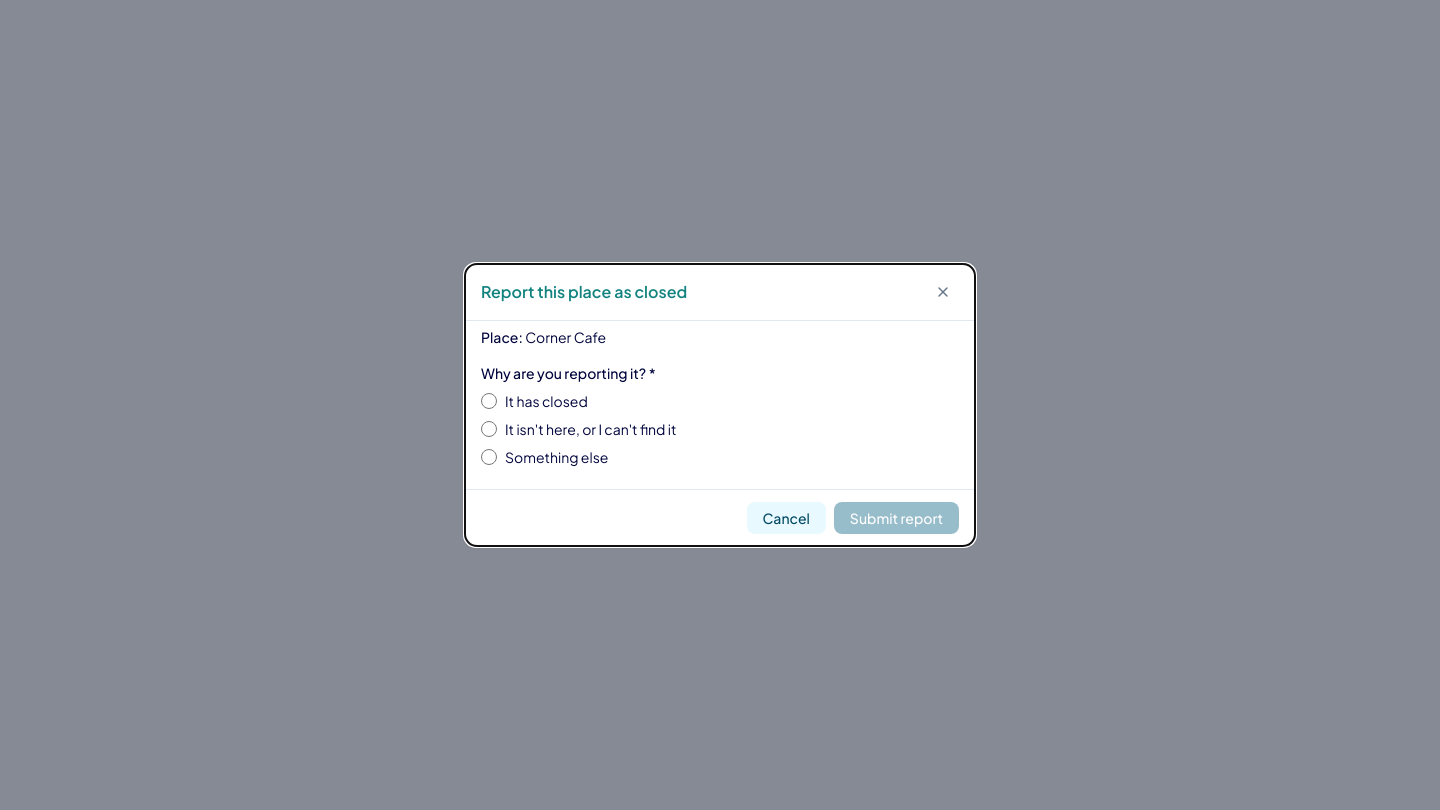
MapCorrectionForm › remove › names the place and keeps submit disabled until a reason is chosen
Expected: the text "Corner Cafe" is shown, [525,328,606,346]
Expected: the button "Submit report" is disabled, [834,502,959,534]
Click the radio button labelled "It has closed". click: point(489, 401)
box: [481,393,497,409]
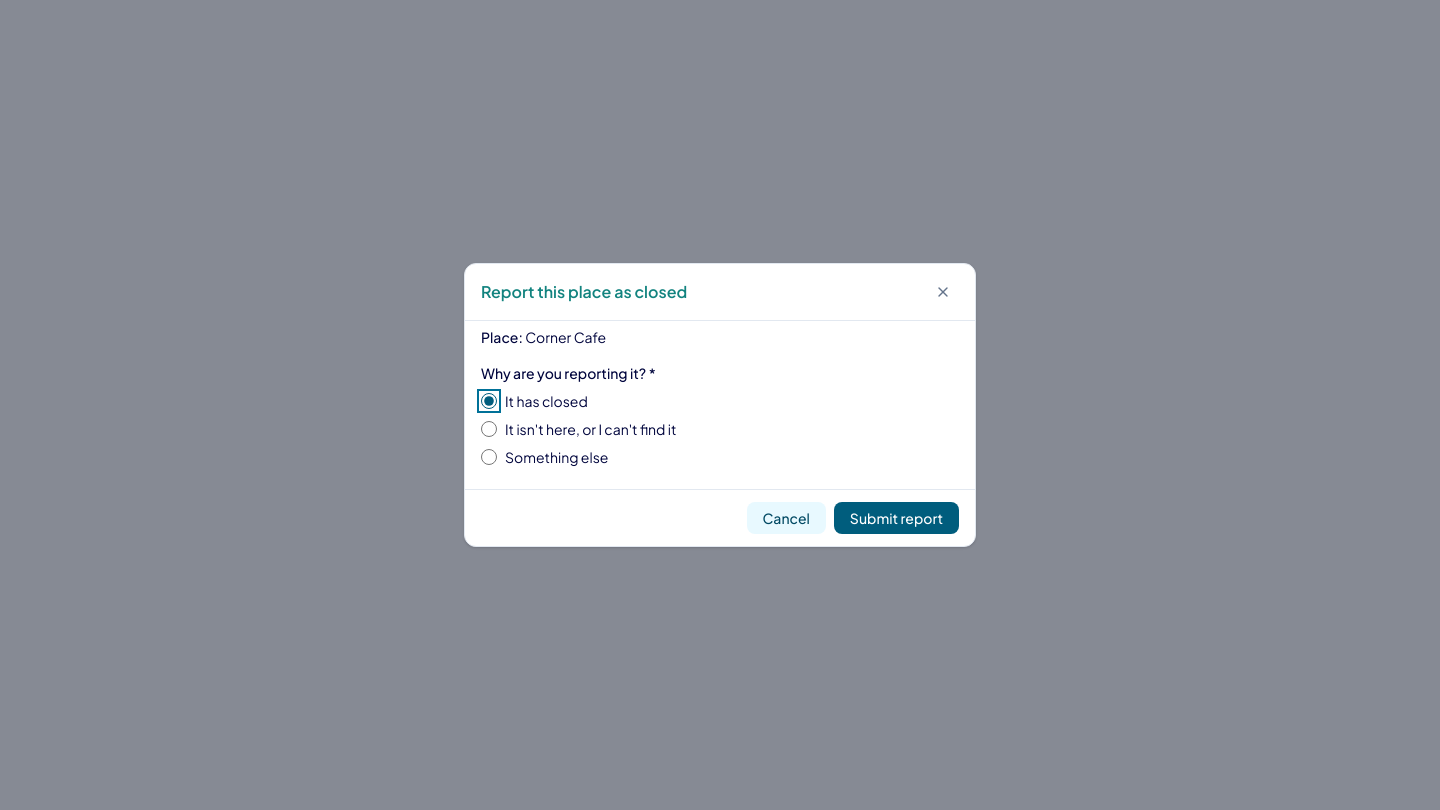
Now the button "Submit report" is enabled, box [834,502,959,534]
